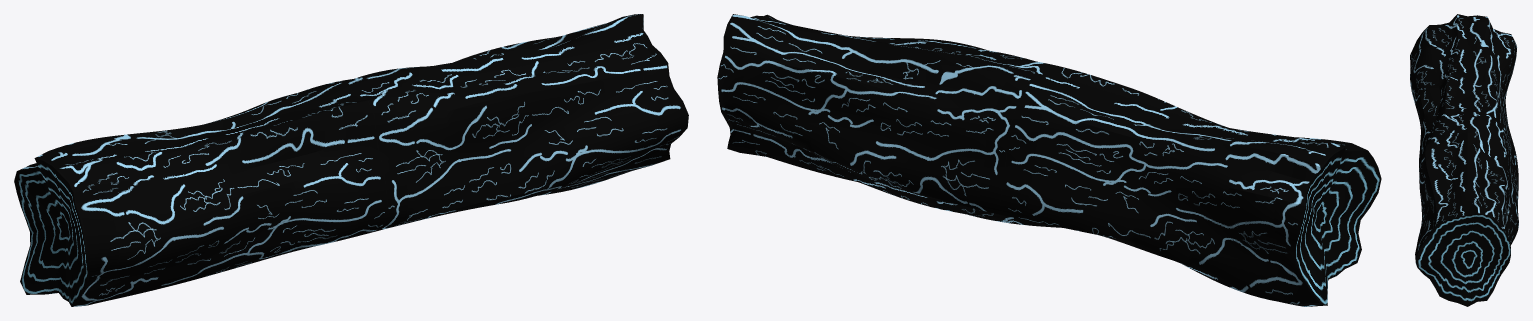
File: brevno_full.fbx
3 views of the same model, side by side, from view 1: azimuth 30°, elevation 25°; view 2: azimuth 150°, elevation 25°; view 3: azimuth 270°, elevation 25° (orthographic). The views are drawn at different scales.
Visible parts, largest first — view 1: Cylinder; view 2: Cylinder; view 3: Cylinder.
Boxes of the visible parts, x1,y1,x2,y2 form: Cylinder: [14, 14, 688, 306]; Cylinder: [717, 14, 1381, 306]; Cylinder: [1410, 14, 1518, 306].
Bounding box in the file's own units: 496 × 120 × 114.
2 materials, 2 textured.
